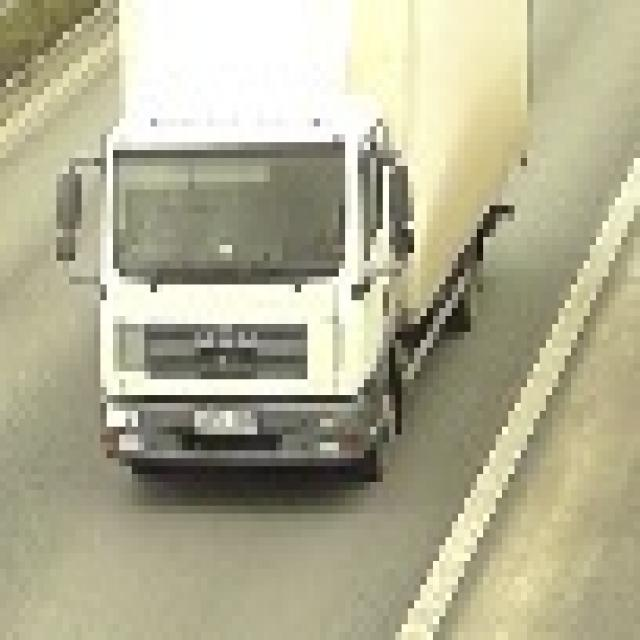truck: (50, 0, 527, 482)
